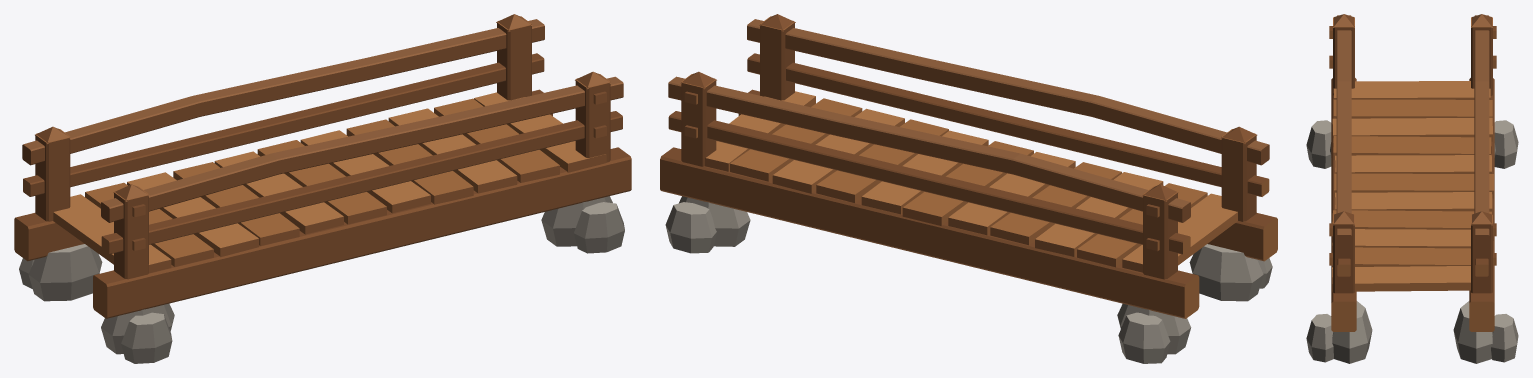
The model's file is FMS_Water_Bridge_Wood.fbx.
3 views of the same model, side by side, from view 1: azimuth 30°, elevation 25°; view 2: azimuth 150°, elevation 25°; view 3: azimuth 270°, elevation 25° (orthographic). The views are drawn at different scales.
Visible parts, largest first — view 1: FMS_Water_Bridge_Wood; view 2: FMS_Water_Bridge_Wood; view 3: FMS_Water_Bridge_Wood.
Boxes of the visible parts, <box> form: FMS_Water_Bridge_Wood: <box>14,14,631,363</box>; FMS_Water_Bridge_Wood: <box>660,14,1277,363</box>; FMS_Water_Bridge_Wood: <box>1306,14,1518,363</box>.
Size of the model in its own units: 3 by 0.9 by 1.2.
